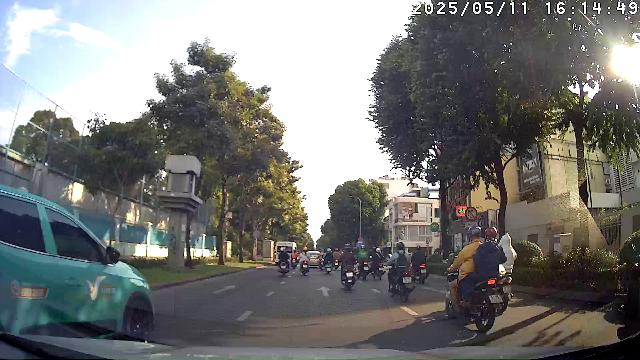103b-cam-oto-re-phai: (465, 207, 478, 220)
